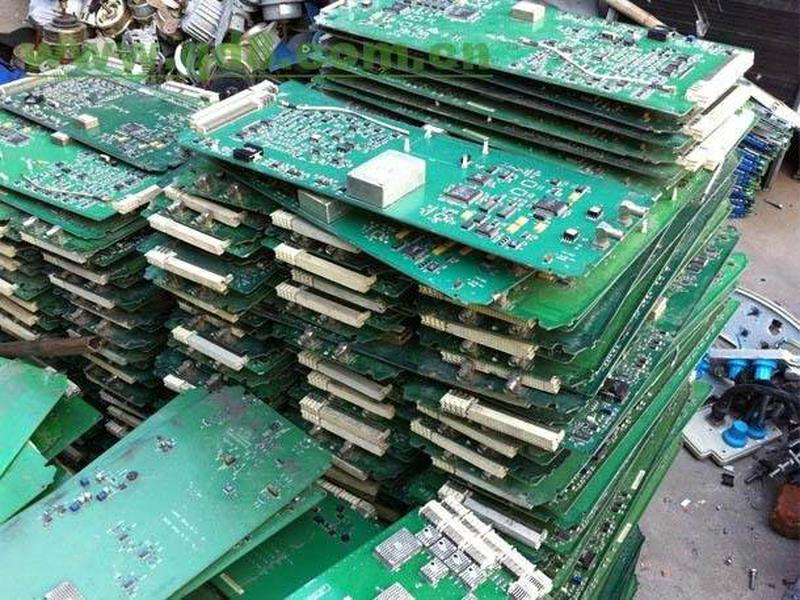circuit_board: (150, 74, 681, 311), (297, 311, 681, 521), (2, 384, 333, 600), (299, 1, 764, 130), (1, 60, 216, 176)
